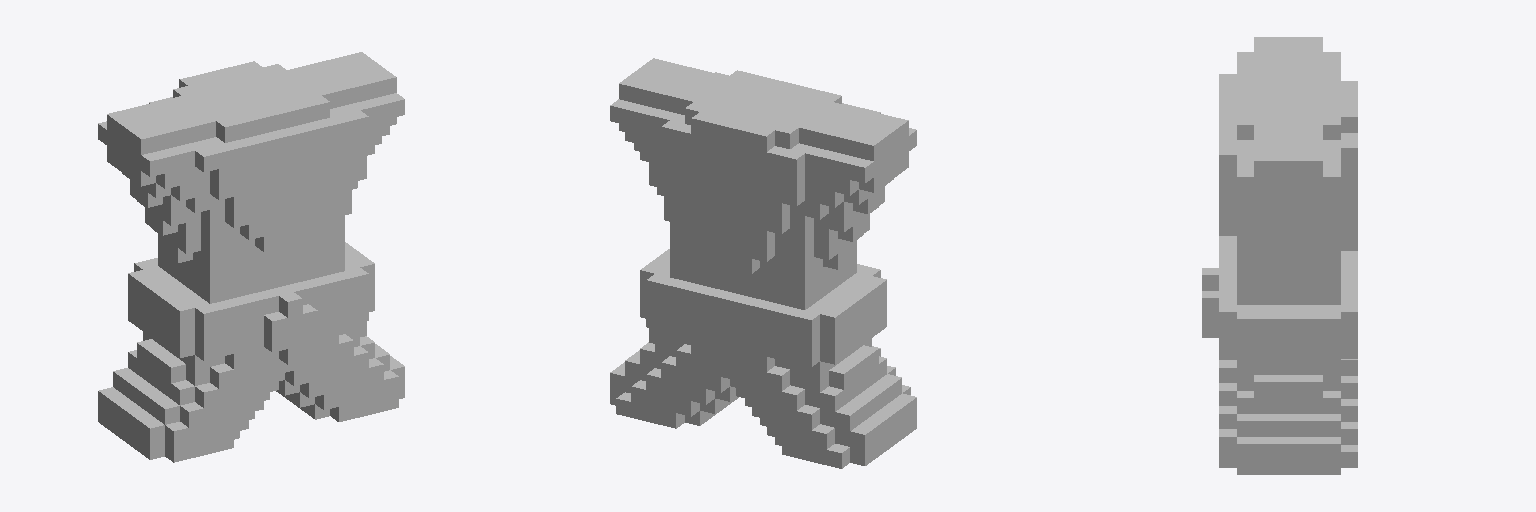
The model's file is torso.obj.
3 renders of one model, left to right at view 1: azimuth 30°, elevation 25°; view 2: azimuth 150°, elevation 25°; view 3: azimuth 270°, elevation 25°, orthographic.
Visible parts, largest first — view 1: final; view 2: final; view 3: final.
Boxes of the visible parts, x1,y1,x2,y2 form: final: [98, 52, 404, 462]; final: [610, 58, 916, 468]; final: [1202, 37, 1357, 474].
Size of the model in its own units: 17 by 20 by 9.